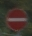No entry: (6, 6, 27, 31)
